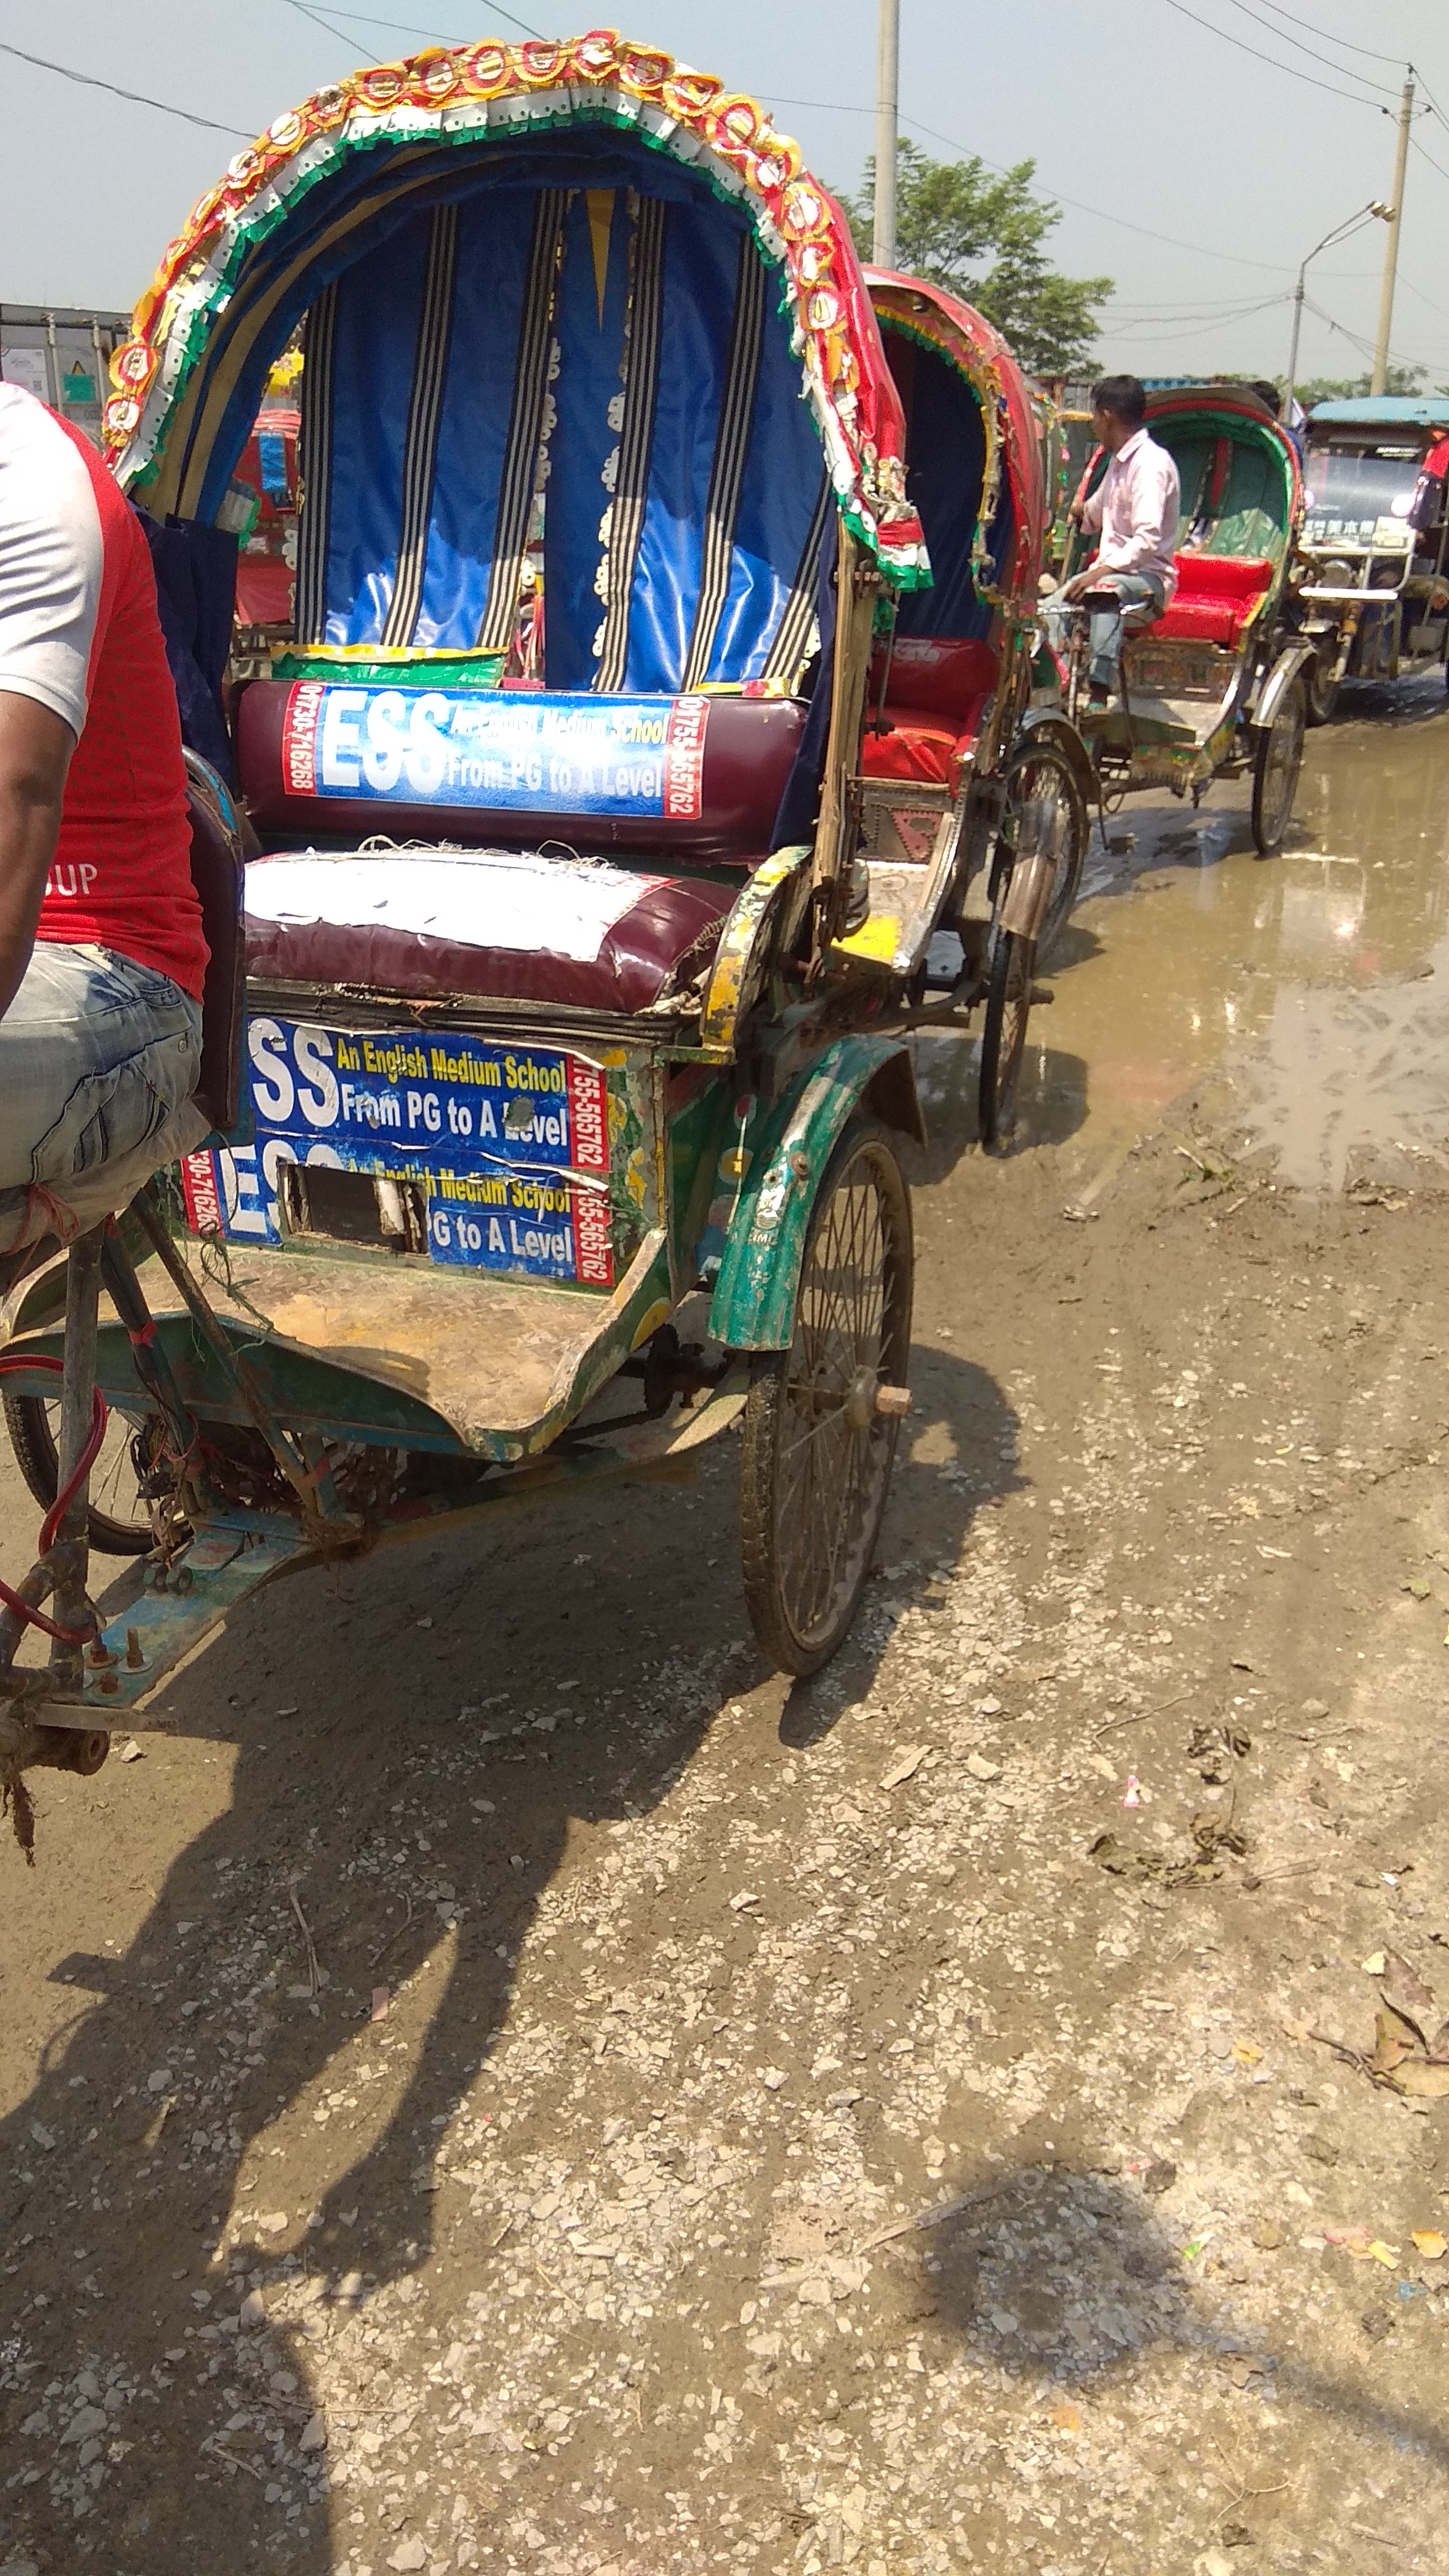Rickshaw: (27, 7, 927, 1815), (814, 196, 1090, 1185), (1042, 322, 1343, 862)
